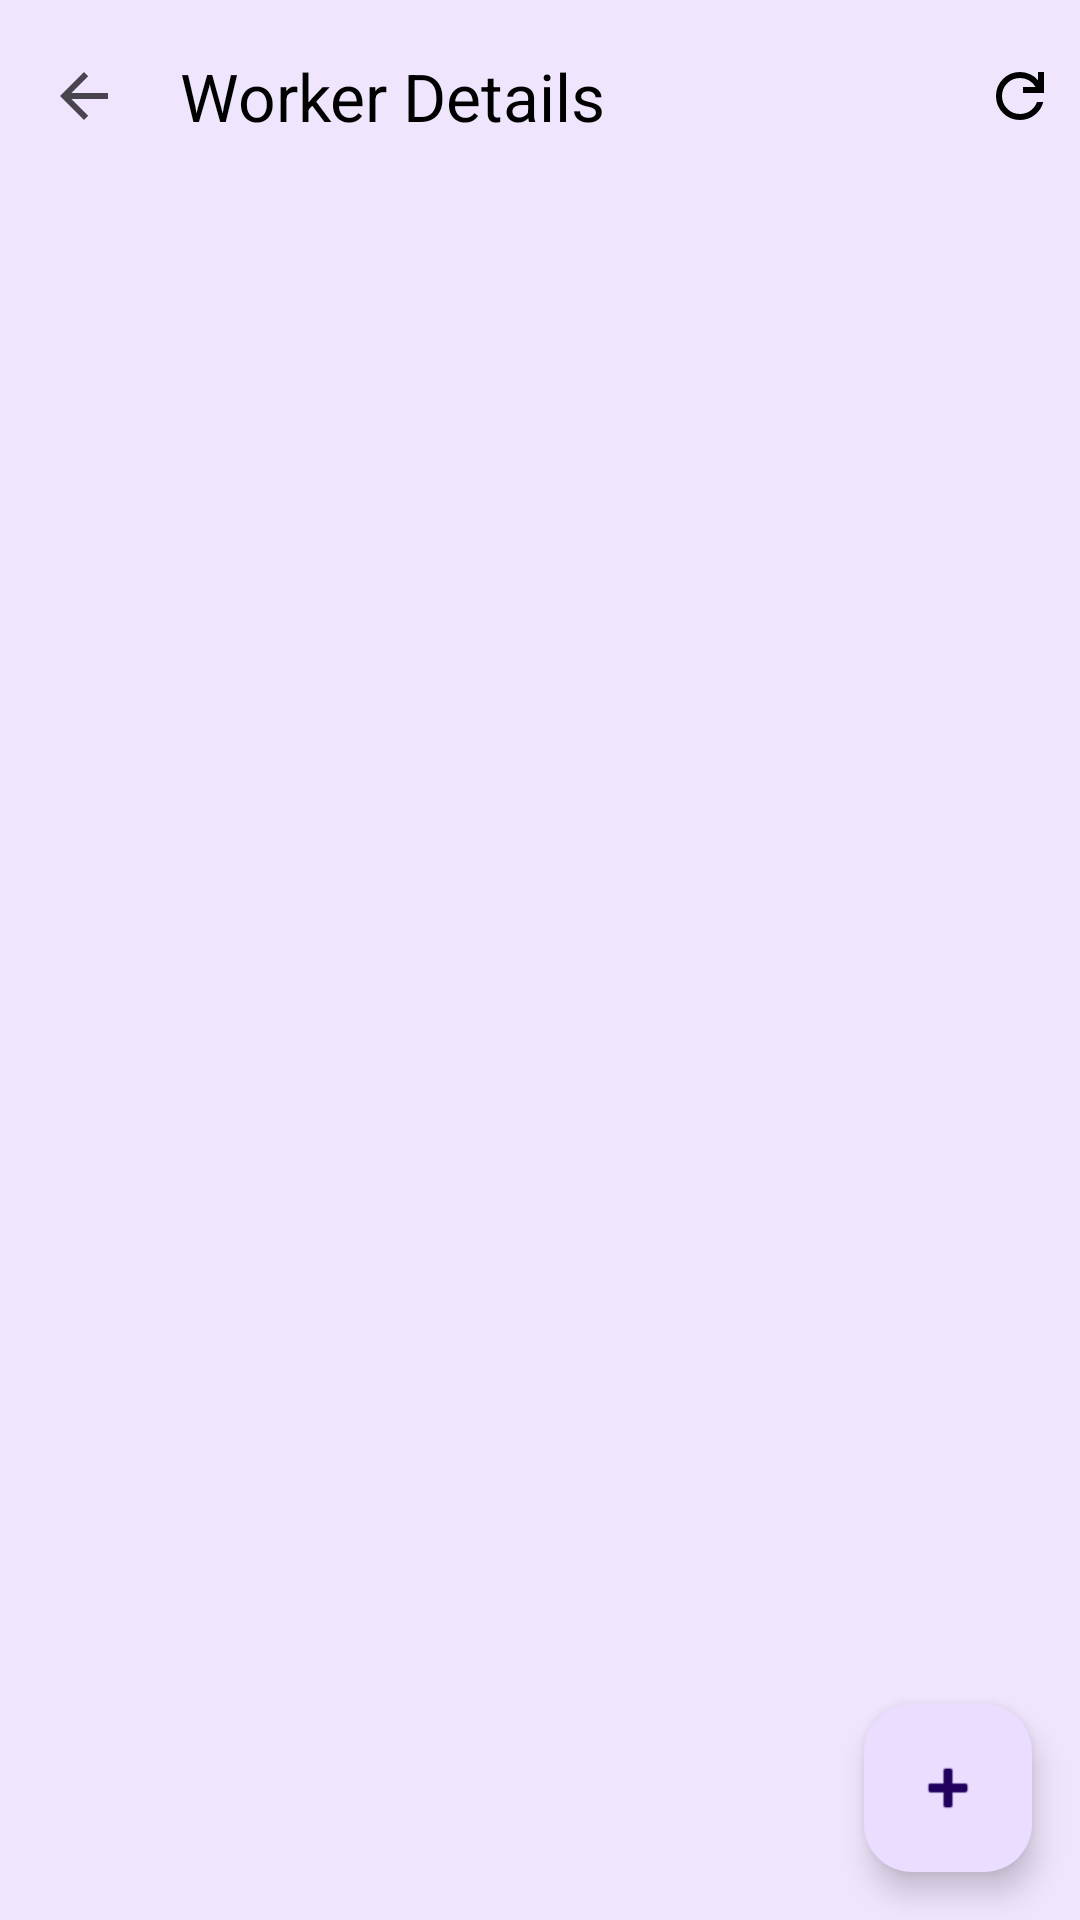

Icon click points for this 1080w x 1920h phone screenshot, format point (x, y):
Refresh: point (1020, 96)
